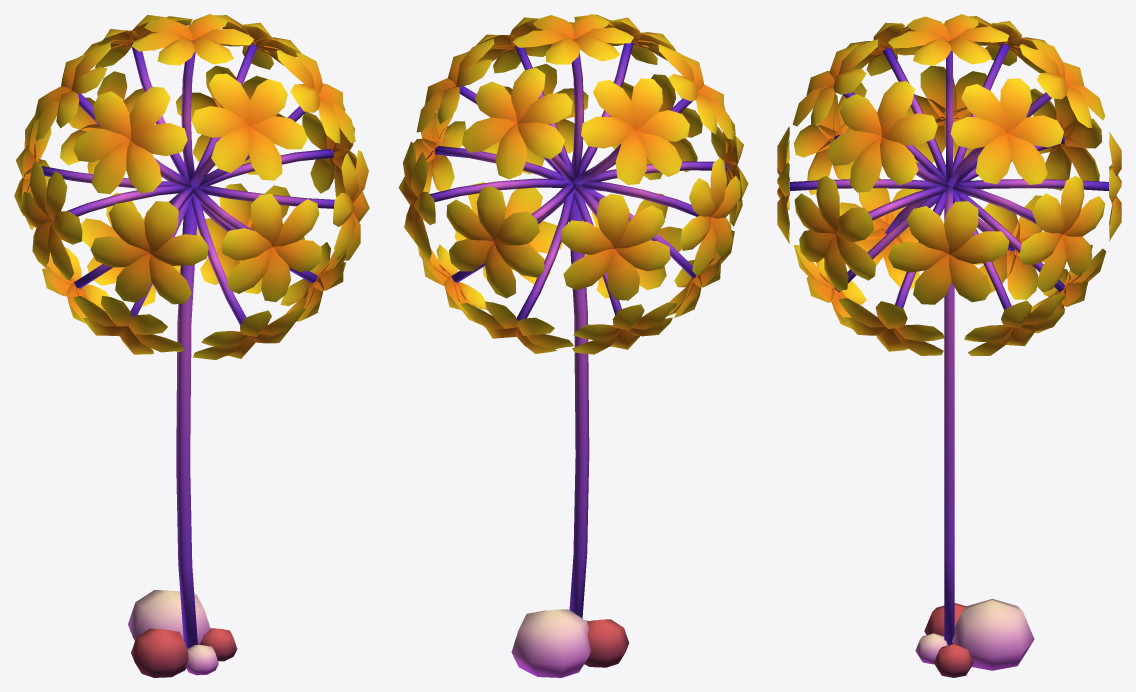
Rendered from anp_PlantFlower_6.fbx.
3 renders of one model, left to right at view 1: azimuth 30°, elevation 25°; view 2: azimuth 150°, elevation 25°; view 3: azimuth 270°, elevation 25°, orthographic. The views are drawn at different scales.
Visible parts, largest first — view 1: pf6; view 2: pf6; view 3: pf6.
Boxes of the visible parts, box(x1,y1,x2,y2) form: pf6: box(14, 14, 369, 677); pf6: box(398, 14, 748, 677); pf6: box(777, 14, 1121, 677).
Bounding box in the file's own units: 43.68 × 88.03 × 43.68.
